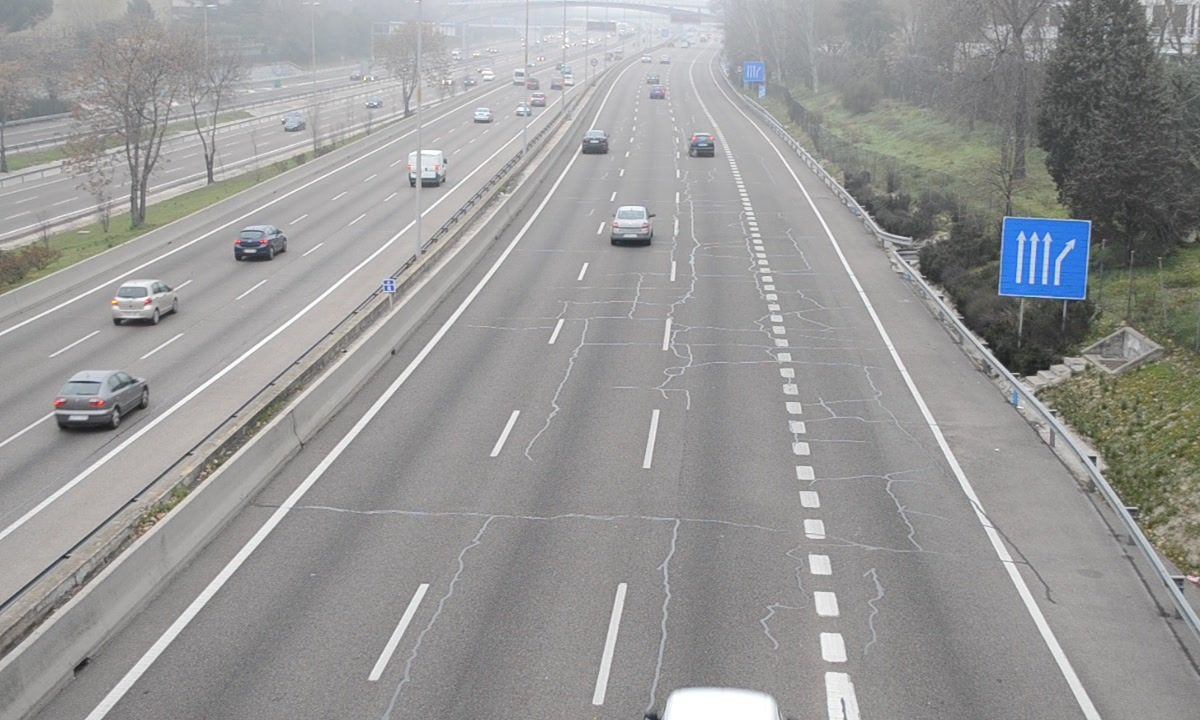car: (613, 206, 654, 245), (688, 132, 716, 159), (582, 130, 609, 156)
